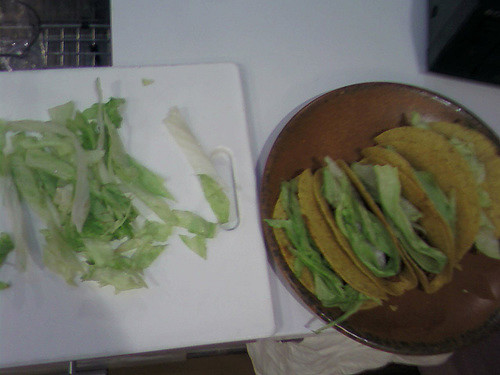chopped lettuce: (2, 87, 255, 314), (280, 170, 363, 324), (357, 159, 448, 293)
